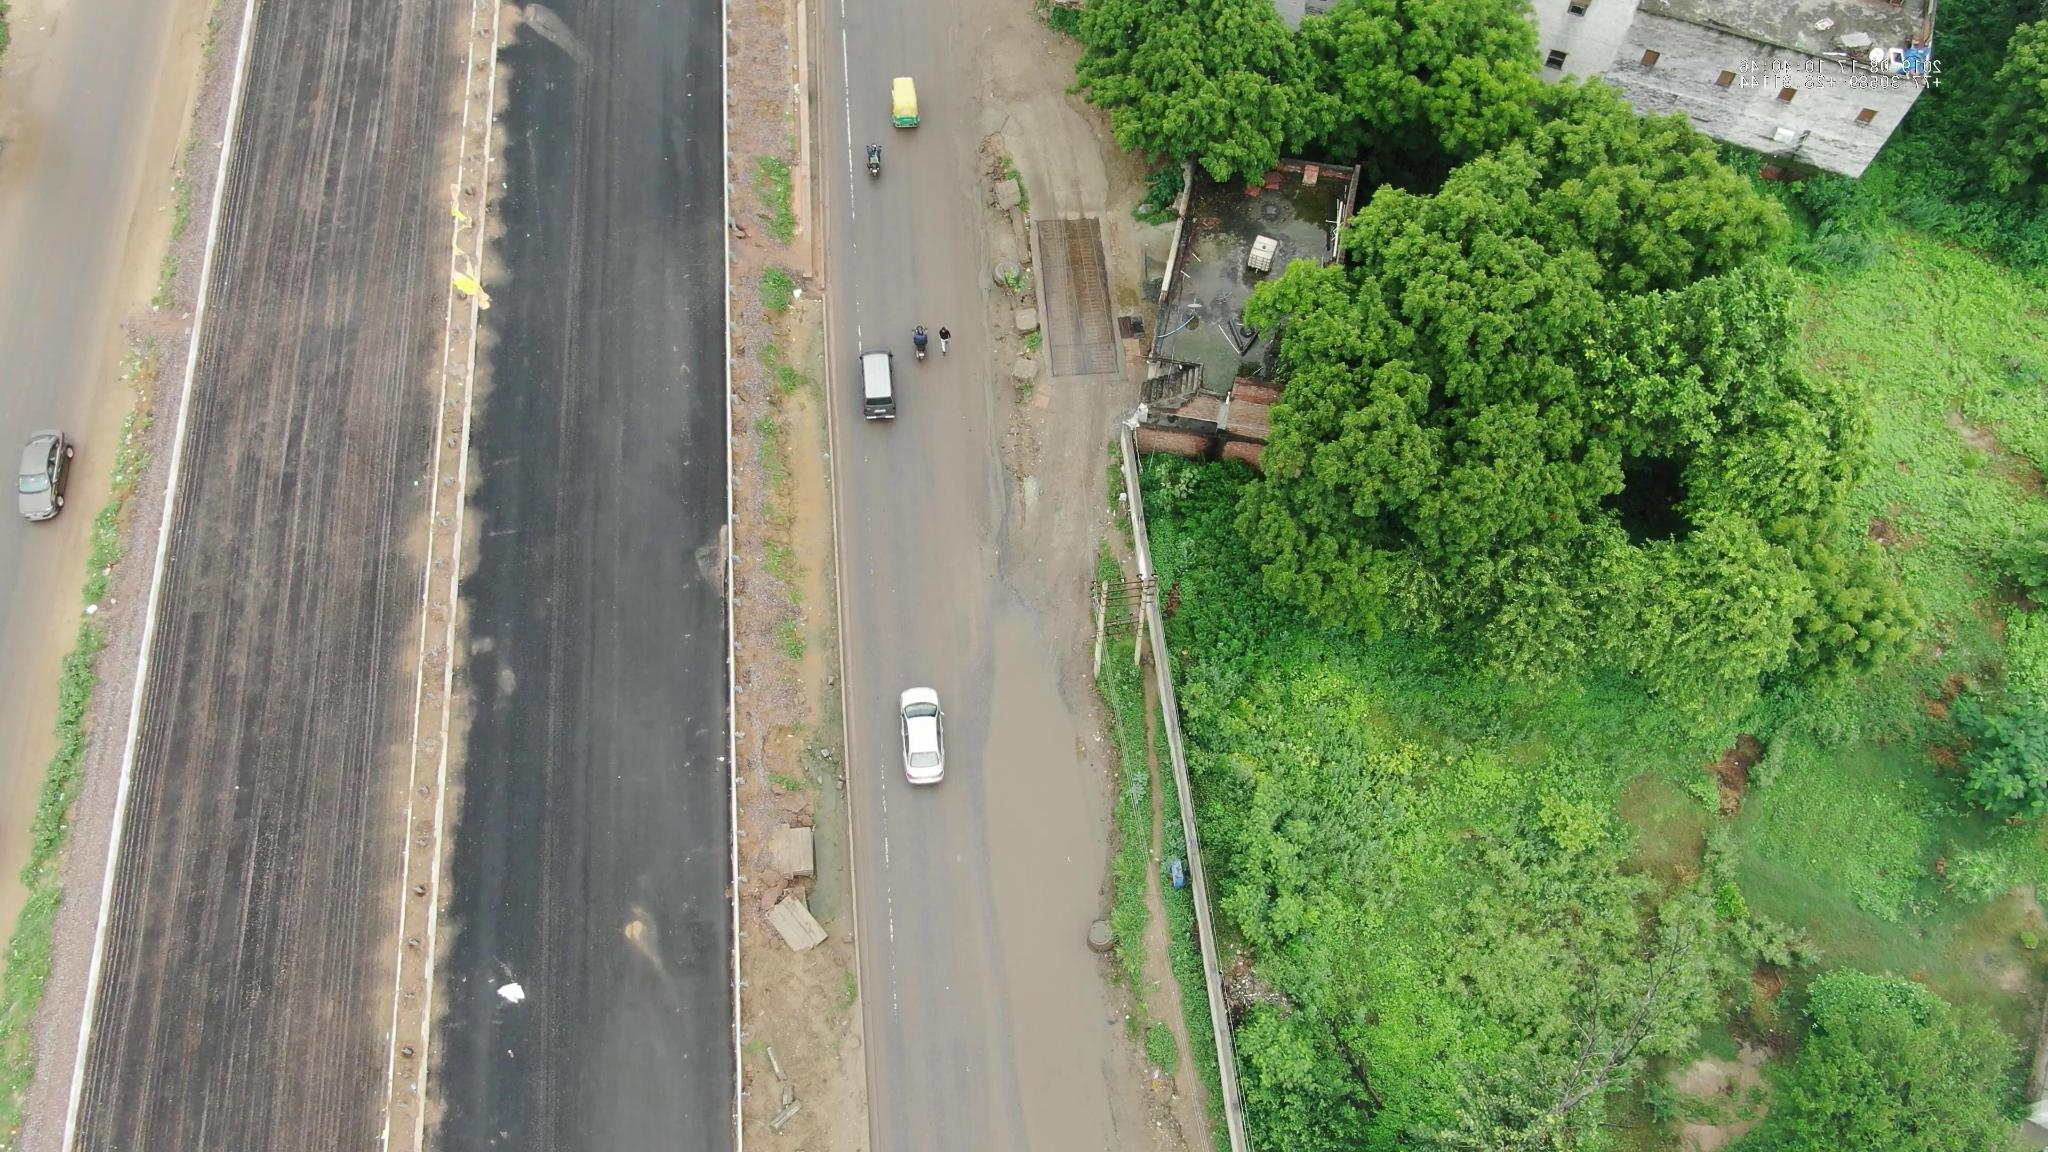Waterlogging: (958, 599, 1151, 1134)
